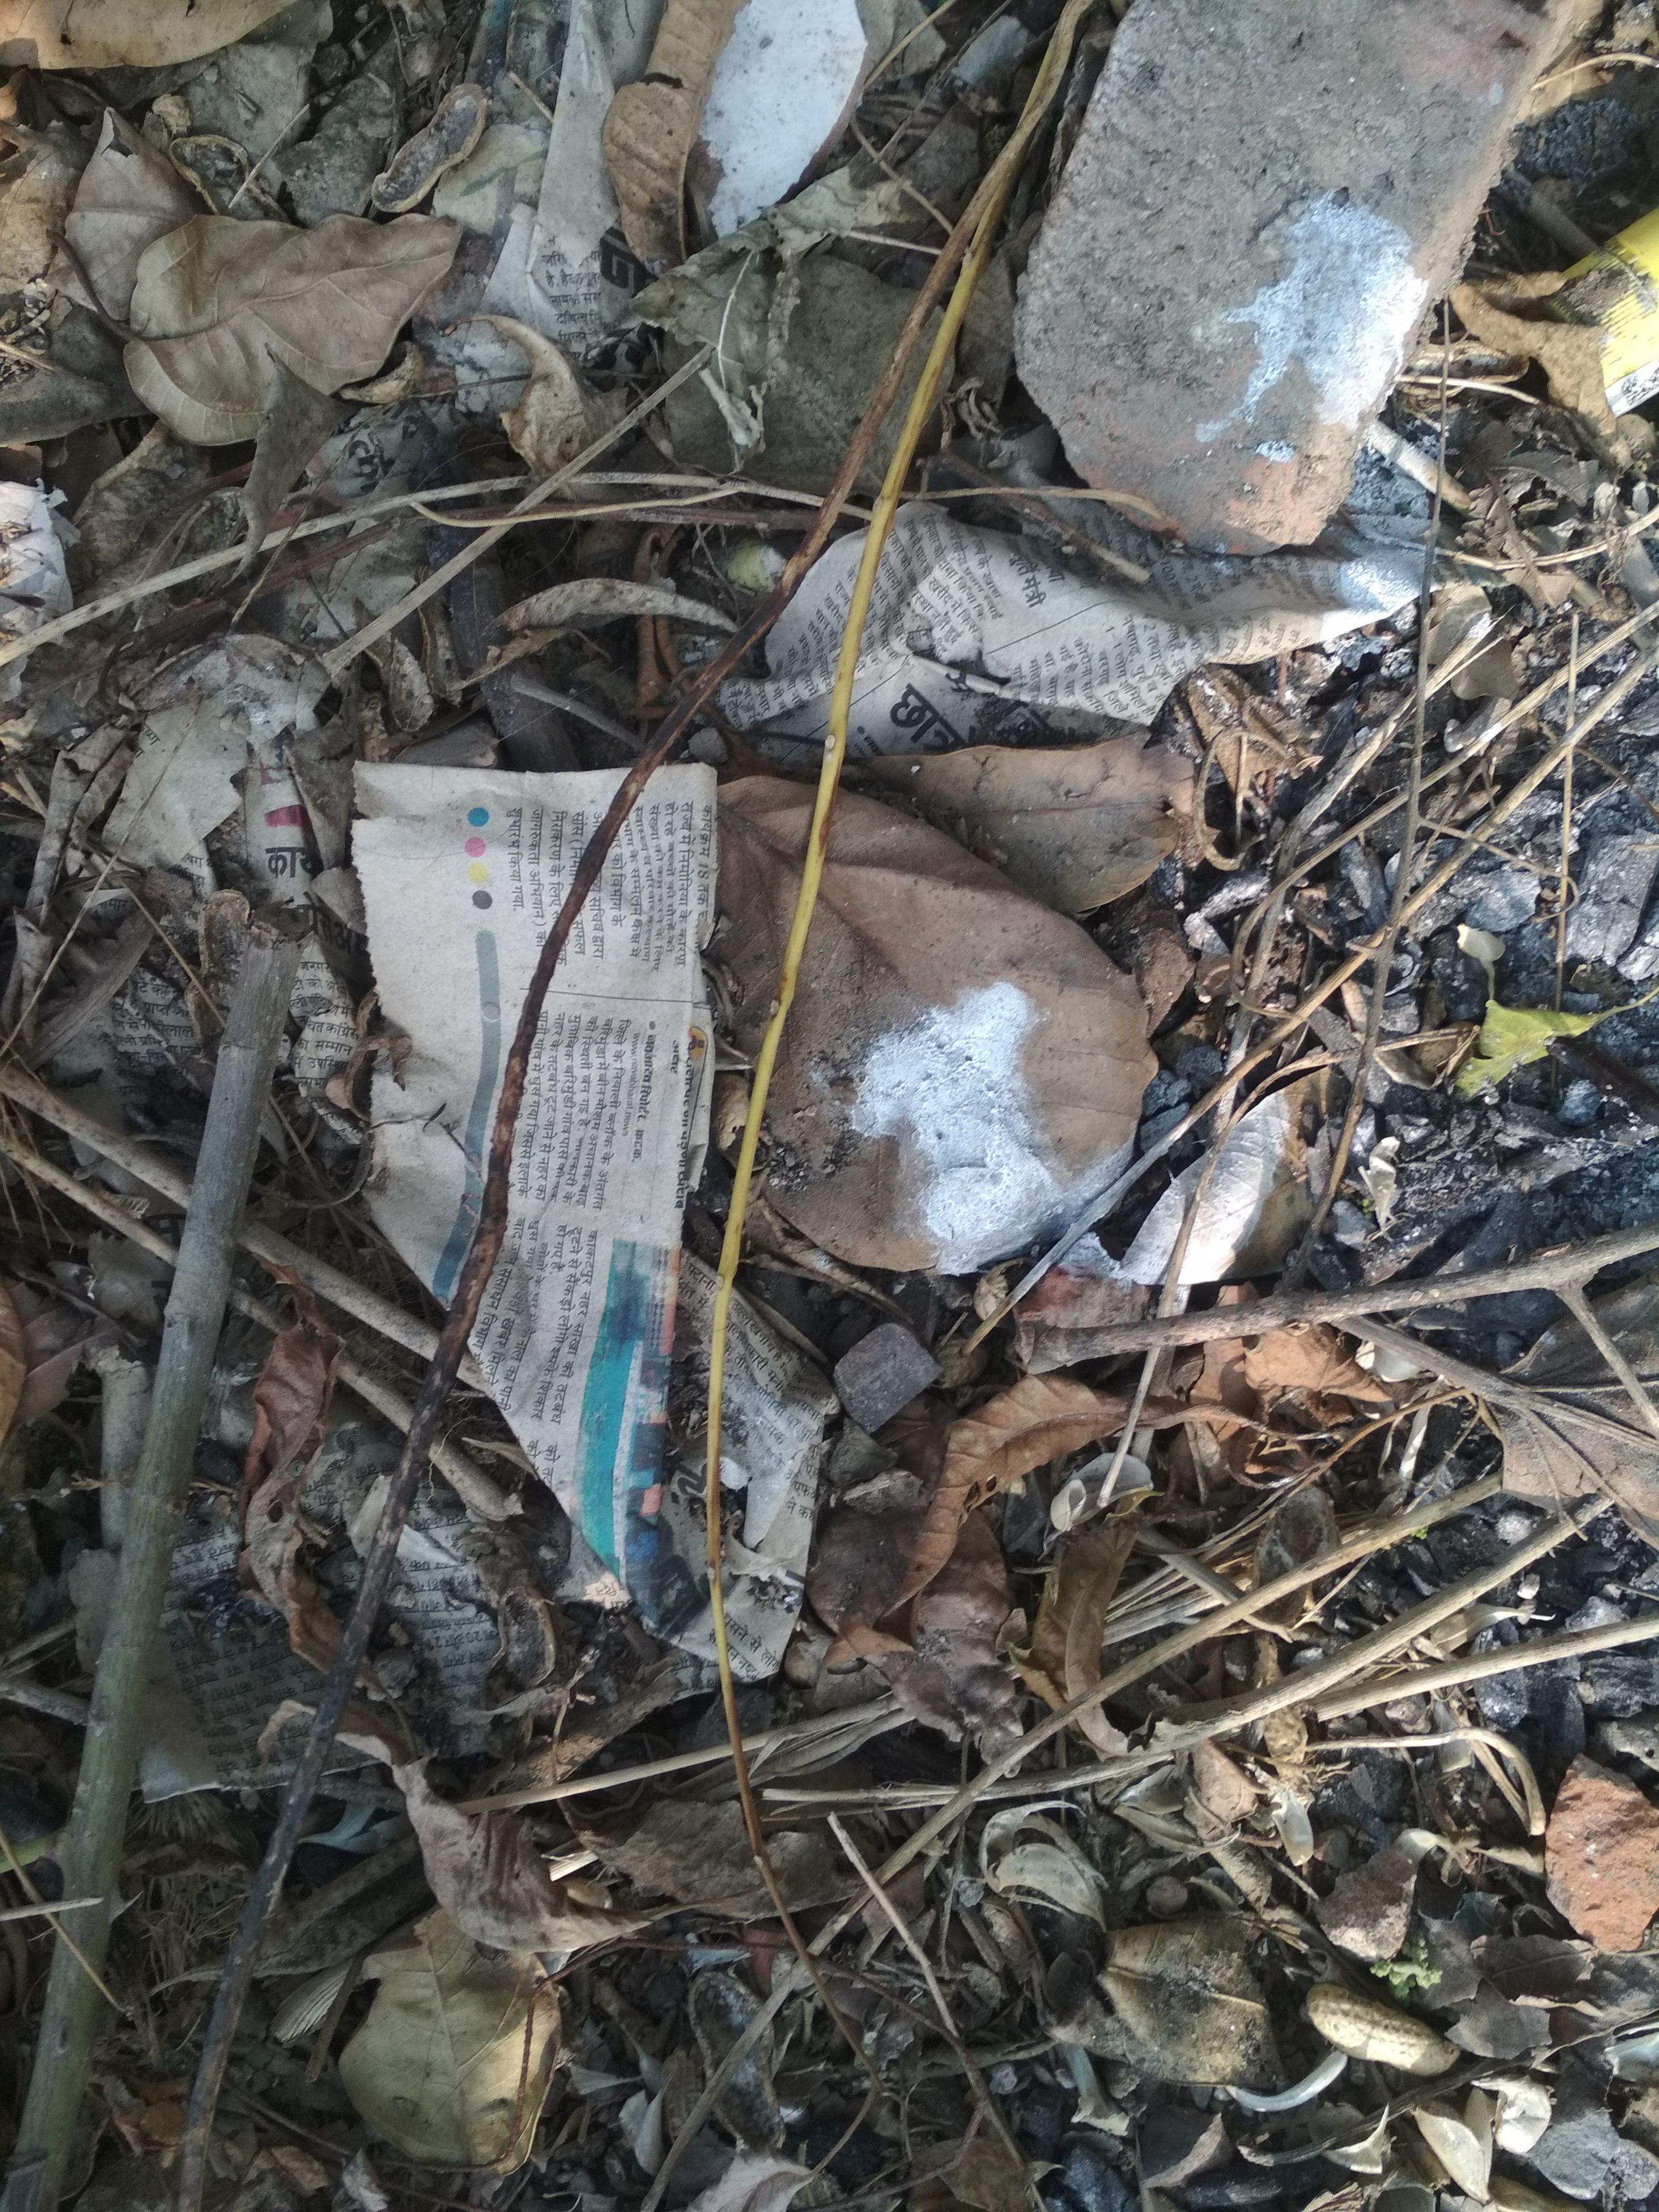trash: (328, 498, 1445, 1710)
